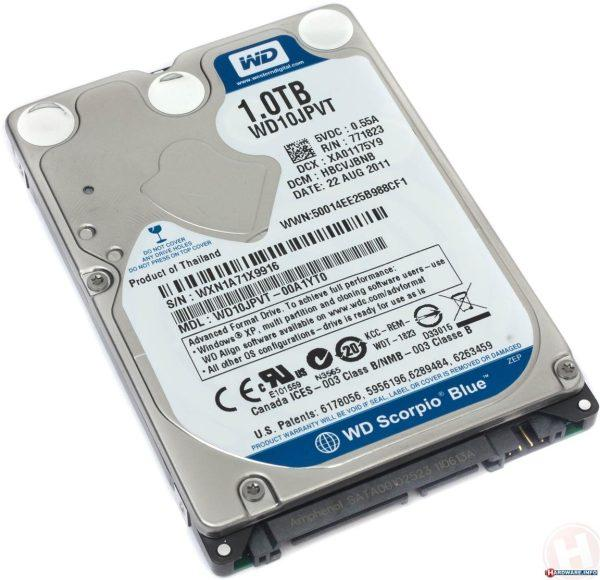internal HDD: (6, 4, 600, 578)
